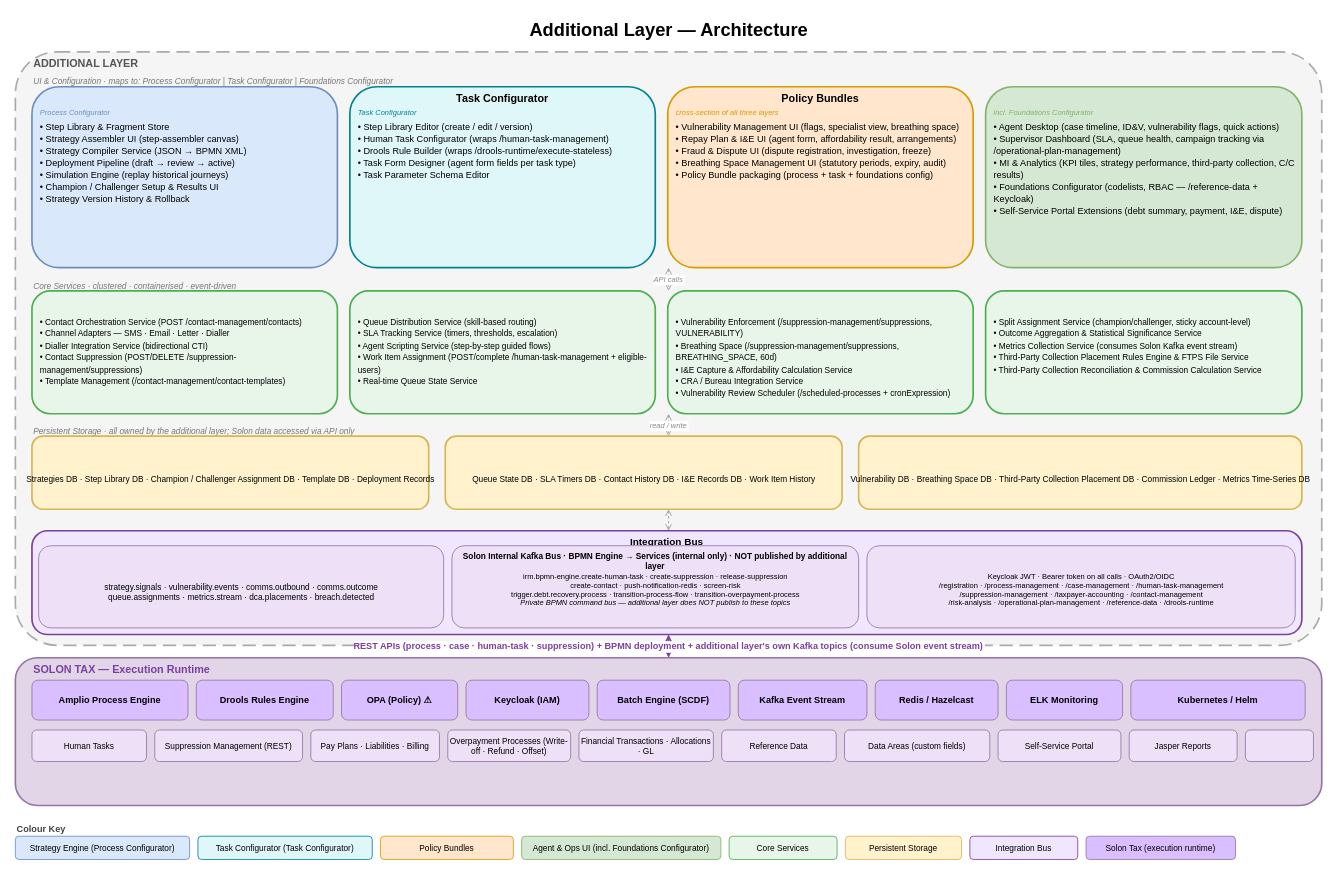
This 1336x874 diagram has some shape labels left out. Each missing label, with the box of its shape:
Agent & Operations UI: (984, 85, 1302, 268)
Contact & Communications: (31, 290, 338, 414)
IRM Queries: (1245, 729, 1313, 762)
New Kafka Topics · additional layer owns: (38, 545, 444, 628)
Operations & Communications: (444, 435, 842, 510)
REST API Gateway · to Solon · all confirmed via OpenAPI specs v2.1.0: (866, 545, 1295, 628)
Risk, Compliance & Analytics: (857, 435, 1302, 510)
Risk, I&E & Compliance: (666, 290, 974, 414)
Strategy & Configuration: (31, 435, 429, 510)
Strategy Engine: (31, 85, 338, 268)
Strategy, Analytics & third-party collection: (984, 290, 1302, 414)
Work, Queue & Agent: (349, 290, 656, 414)
